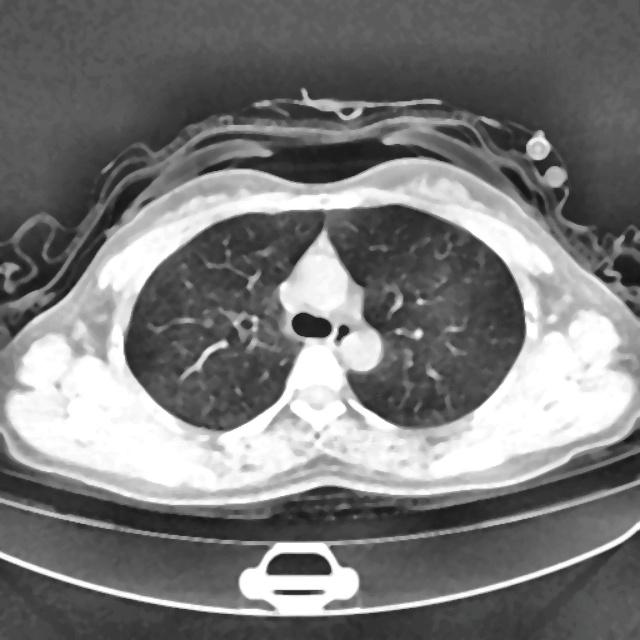covid: (0, 89, 639, 520)
